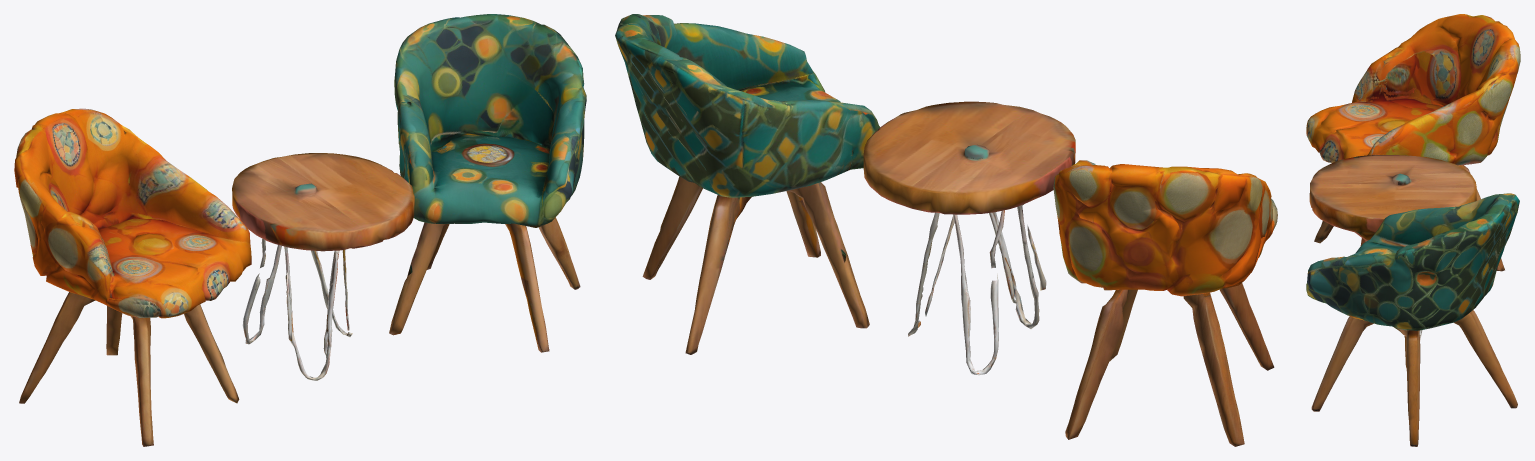
File: chair-2.glb
3 renders of one model, left to right at view 1: azimuth 30°, elevation 25°; view 2: azimuth 150°, elevation 25°; view 3: azimuth 270°, elevation 25°, orthographic. The views are drawn at different scales.
Size of the model in its own units: 2 by 0.8795 by 0.7809.
Materials: 1 (1 with a texture image).
